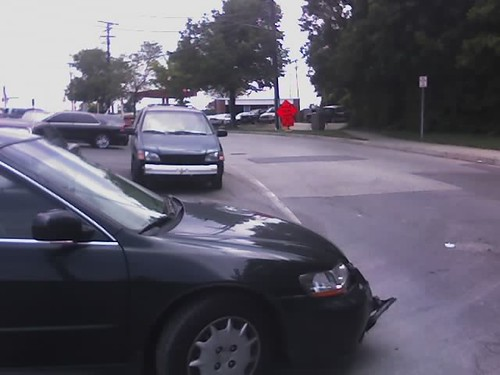car: (1, 128, 365, 375), (119, 102, 232, 191), (32, 109, 128, 150)
street: (237, 134, 500, 375)
tree: (187, 1, 276, 131), (63, 43, 131, 117)
vegetation: (305, 1, 500, 131)
